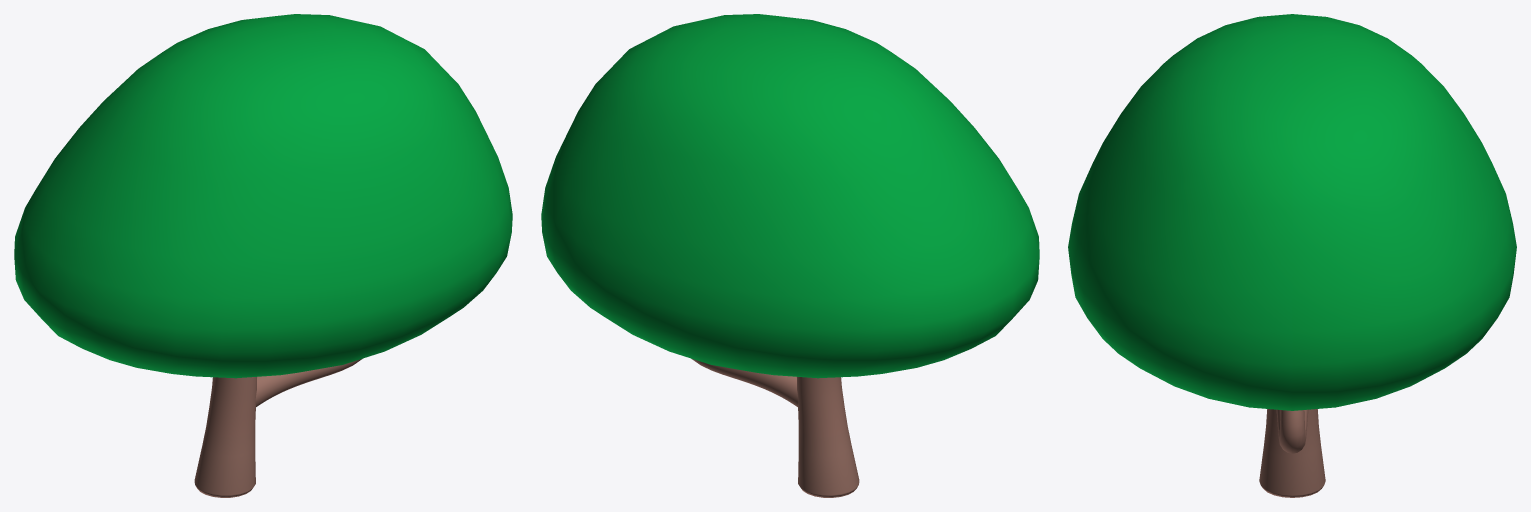
File: Farm_20_Bush_1.glb
3 renders of one model, left to right at view 1: azimuth 30°, elevation 25°; view 2: azimuth 150°, elevation 25°; view 3: azimuth 270°, elevation 25°, orthographic. The views are drawn at different scales.
Parts seen in each view (by area): view 1: Farm_20_Bush_1; view 2: Farm_20_Bush_1; view 3: Farm_20_Bush_1.
Boxes of the visible parts, bbox=[...] form: Farm_20_Bush_1: bbox=[14, 14, 512, 497]; Farm_20_Bush_1: bbox=[541, 14, 1039, 497]; Farm_20_Bush_1: bbox=[1068, 14, 1516, 497].
Size of the model in its own units: 1.48 by 1.37 by 1.2.
Materials: 1 (1 with a texture image).
